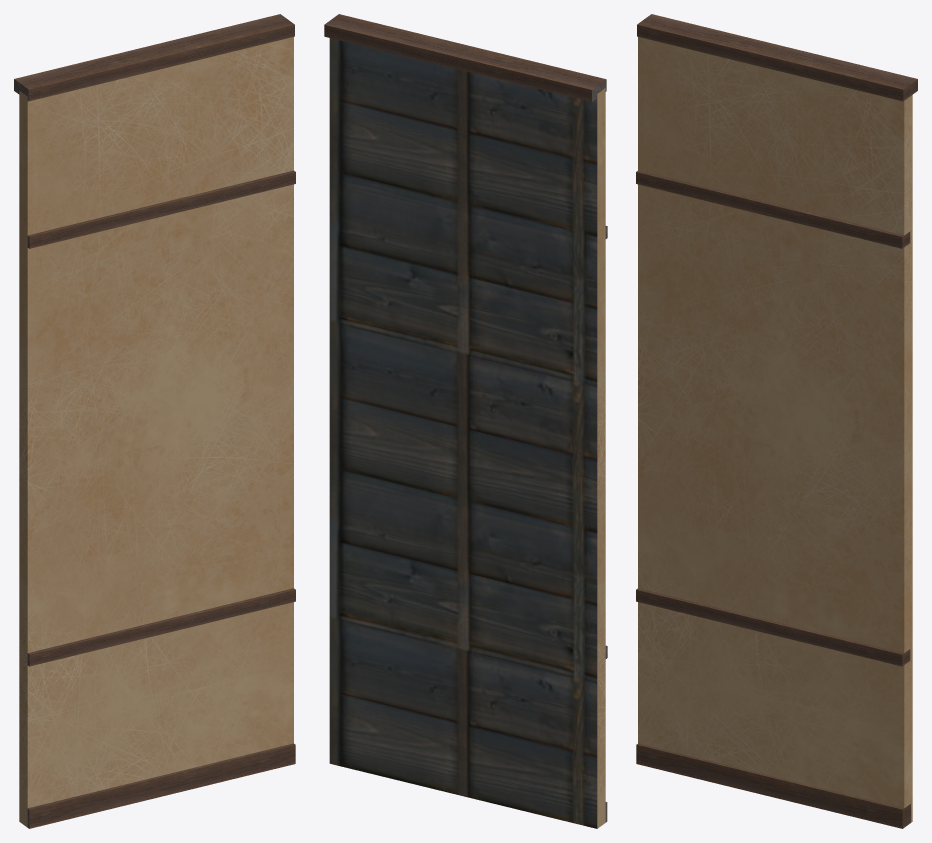
File: outwall01_0t.fbx
The picture shows the model from 3 angles, left to right: view 1: azimuth 30°, elevation 25°; view 2: azimuth 150°, elevation 25°; view 3: azimuth 330°, elevation 25°; orthographic projection.
Parts seen in each view (by area): view 1: outwall01_0t; view 2: outwall01_0t; view 3: outwall01_0t.
Boxes of the visible parts, x1,y1,x2,y2 form: outwall01_0t: [14, 14, 295, 828]; outwall01_0t: [324, 14, 607, 828]; outwall01_0t: [636, 14, 917, 828].
Size of the model in its own units: 110 by 292 by 11.05.
